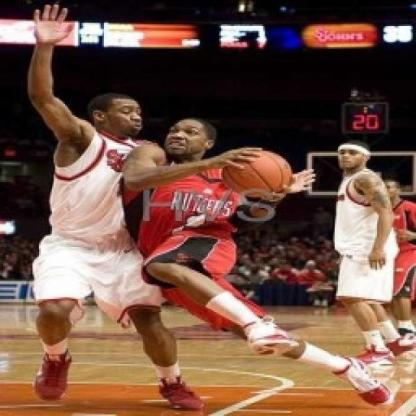basketball: (218, 144, 296, 204)
